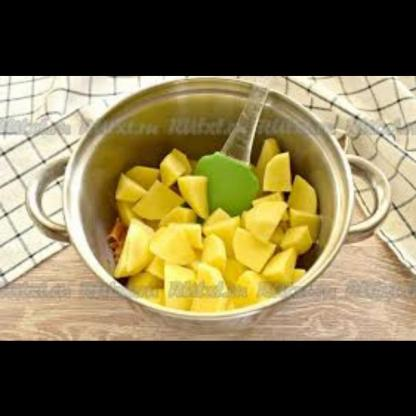potato: (110, 146, 322, 315)
